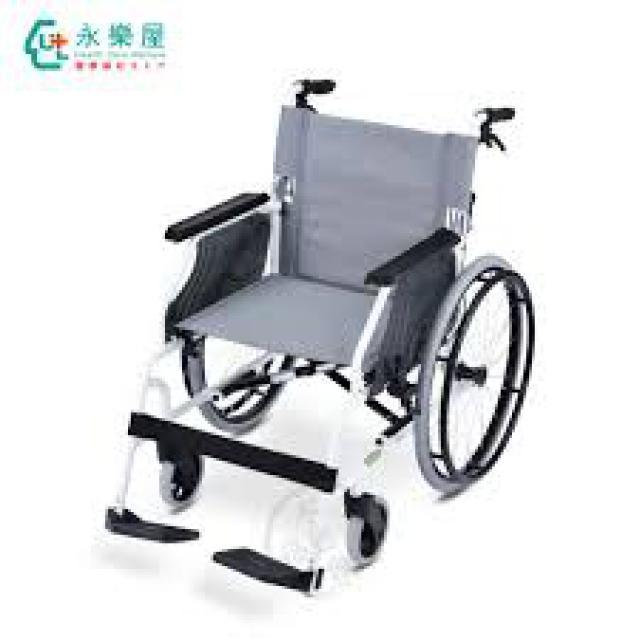wheelchair: (76, 62, 564, 600)
